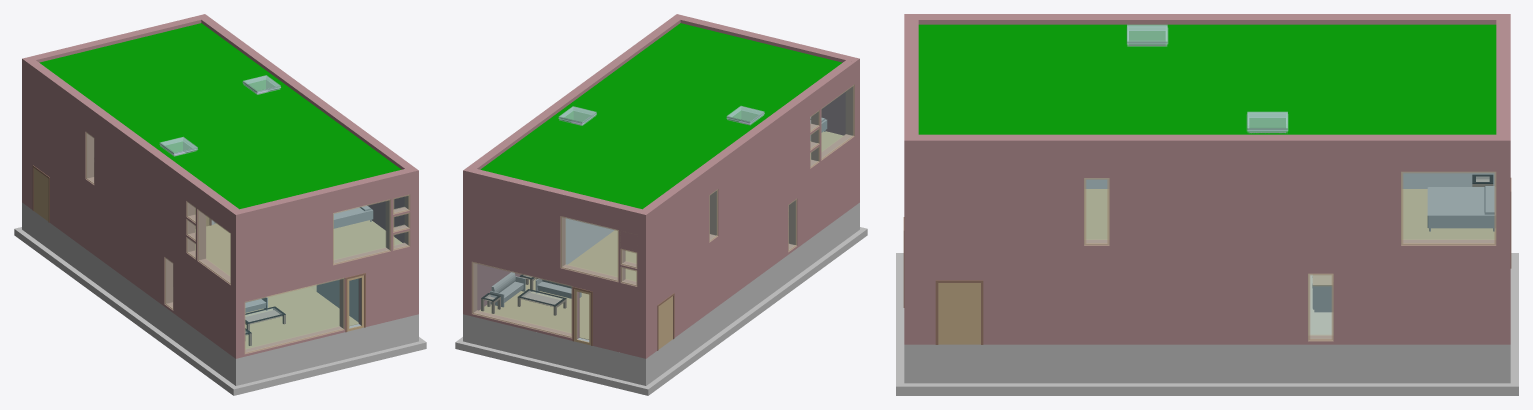
3 renders of one model, left to right at view 1: azimuth 30°, elevation 25°; view 2: azimuth 150°, elevation 25°; view 3: azimuth 270°, elevation 25°, orthographic. The views are drawn at different scales.
Parts seen in each view (by area): view 1: 09g7Eo3WDEihdnsYS1YDoI, 2O2Fr$t4X7Zf8NOew3FNhv, 2O2Fr$t4X7Zf8NOew3FLPP, 2O2Fr$t4X7Zf8NOew3FLOH, 2O2Fr$t4X7Zf8NOew3FNr2, 2O2Fr$t4X7Zf8NOew3FKE5, 2O2Fr$t4X7Zf8NOew3FKEr, 0jf0rYHfX3RAB3bSIRjmr1, 2OBrcmyk58NupXoVOHUtxr, 0jf0rYHfX3RAB3bSIRjmoa, 0jf0rYHfX3RAB3bSIRjmpw, 0kF45Qs8L9PAM9kmb1lT5t (+18 smaller); view 2: 09g7Eo3WDEihdnsYS1YDoI, 2O2Fr$t4X7Zf8NOew3FNhv, 2O2Fr$t4X7Zf8NOew3FLPP, 2O2Fr$t4X7Zf8NOew3FLQD, 2O2Fr$t4X7Zf8NOew3FNtn, 2O2Fr$t4X7Zf8NOew3FKE5, 2O2Fr$t4X7Zf8NOew3FK80, 0jf0rYHfX3RAB3bSIRjmr1, 0jf0rYHfX3RAB3bSIRjmmy, 0kF45Qs8L9PAM9kmb1lT5t, 0jf0rYHfX3RAB3bSIRjmpw, 2OBrcmyk58NupXoVOHUtgP (+18 smaller); view 3: 09g7Eo3WDEihdnsYS1YDoI, 2O2Fr$t4X7Zf8NOew3FNqI, 2O2Fr$t4X7Zf8NOew3FLR9, 2O2Fr$t4X7Zf8NOew3FK9N, 0jf0rYHfX3RAB3bSIRjmpw, 0kF45Qs8L9PAM9kmb1lT5d, 0jf0rYHfX3RAB3bSIRjmr1, 1hOSvn6df7F8_7GcBWlRGQ, 2OBrcmyk58NupXoVOHUtI8, 0jf0rYHfX3RAB3bSIRjmmy, 2OBrcmyk58NupXoVOHUtDX, 0jf0rYHfX3RAB3bSIRjmoa (+13 smaller).
Boxes of the visible parts, left/top/right/bottom form: 09g7Eo3WDEihdnsYS1YDoI: left=39, top=23, right=401, bottom=209; 2O2Fr$t4X7Zf8NOew3FNhv: left=27, top=139, right=230, bottom=354; 2O2Fr$t4X7Zf8NOew3FLPP: left=22, top=72, right=235, bottom=291; 2O2Fr$t4X7Zf8NOew3FLOH: left=236, top=183, right=418, bottom=291; 2O2Fr$t4X7Zf8NOew3FNr2: left=231, top=249, right=410, bottom=358; 2O2Fr$t4X7Zf8NOew3FKE5: left=27, top=206, right=230, bottom=382; 2O2Fr$t4X7Zf8NOew3FKEr: left=231, top=316, right=410, bottom=385; 0jf0rYHfX3RAB3bSIRjmr1: left=27, top=60, right=238, bottom=224; 2OBrcmyk58NupXoVOHUtxr: left=245, top=285, right=358, bottom=348; 0jf0rYHfX3RAB3bSIRjmoa: left=231, top=169, right=410, bottom=228; 0jf0rYHfX3RAB3bSIRjmpw: left=201, top=17, right=418, bottom=185; 0kF45Qs8L9PAM9kmb1lT5t: left=14, top=227, right=227, bottom=387; 09g7Eo3WDEihdnsYS1YDoI: left=480, top=23, right=842, bottom=209; 2O2Fr$t4X7Zf8NOew3FNhv: left=651, top=139, right=854, bottom=354; 2O2Fr$t4X7Zf8NOew3FLPP: left=646, top=72, right=859, bottom=291; 2O2Fr$t4X7Zf8NOew3FLQD: left=463, top=183, right=645, bottom=291; 2O2Fr$t4X7Zf8NOew3FNtn: left=463, top=247, right=650, bottom=358; 2O2Fr$t4X7Zf8NOew3FKE5: left=651, top=206, right=854, bottom=382; 2O2Fr$t4X7Zf8NOew3FK80: left=463, top=314, right=650, bottom=385; 0jf0rYHfX3RAB3bSIRjmr1: left=643, top=60, right=854, bottom=224; 0jf0rYHfX3RAB3bSIRjmmy: left=463, top=167, right=650, bottom=228; 0kF45Qs8L9PAM9kmb1lT5t: left=629, top=235, right=856, bottom=395; 0jf0rYHfX3RAB3bSIRjmpw: left=468, top=14, right=684, bottom=169; 2OBrcmyk58NupXoVOHUtgP: left=479, top=279, right=589, bottom=339; 09g7Eo3WDEihdnsYS1YDoI: left=918, top=24, right=1496, bottom=134; 2O2Fr$t4X7Zf8NOew3FNqI: left=904, top=249, right=1496, bottom=344; 2O2Fr$t4X7Zf8NOew3FLR9: left=904, top=159, right=1510, bottom=248; 2O2Fr$t4X7Zf8NOew3FK9N: left=904, top=344, right=1496, bottom=383; 0jf0rYHfX3RAB3bSIRjmpw: left=904, top=134, right=1496, bottom=159; 0kF45Qs8L9PAM9kmb1lT5d: left=896, top=373, right=1518, bottom=395; 0jf0rYHfX3RAB3bSIRjmr1: left=918, top=14, right=1496, bottom=24; 1hOSvn6df7F8_7GcBWlRGQ: left=935, top=280, right=983, bottom=344; 2OBrcmyk58NupXoVOHUtI8: left=1427, top=186, right=1495, bottom=231; 0jf0rYHfX3RAB3bSIRjmmy: left=1496, top=14, right=1510, bottom=159; 2OBrcmyk58NupXoVOHUtDX: left=1401, top=189, right=1495, bottom=239; 0jf0rYHfX3RAB3bSIRjmoa: left=904, top=14, right=918, bottom=134.
Size of the model in its own units: 9.28 by 8.18 by 18.28.
